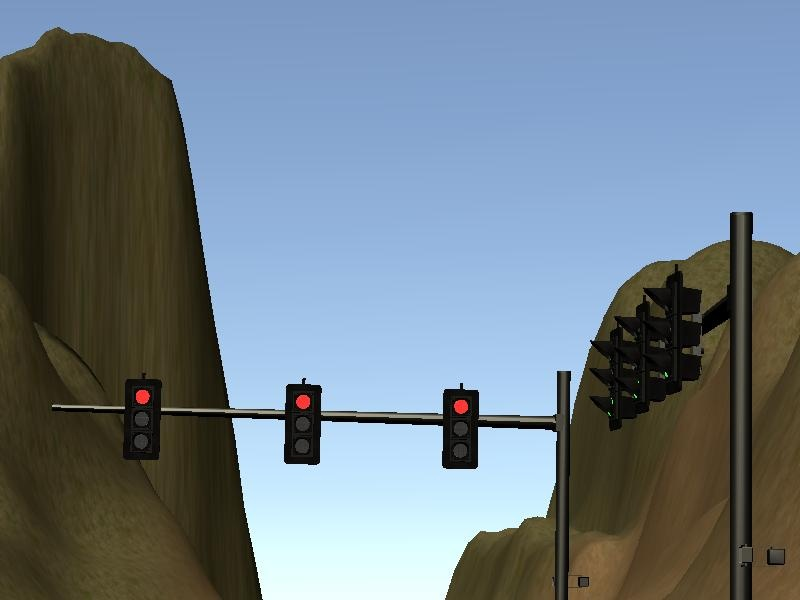red: (279, 379, 328, 474), (437, 380, 485, 474), (121, 373, 165, 466)
